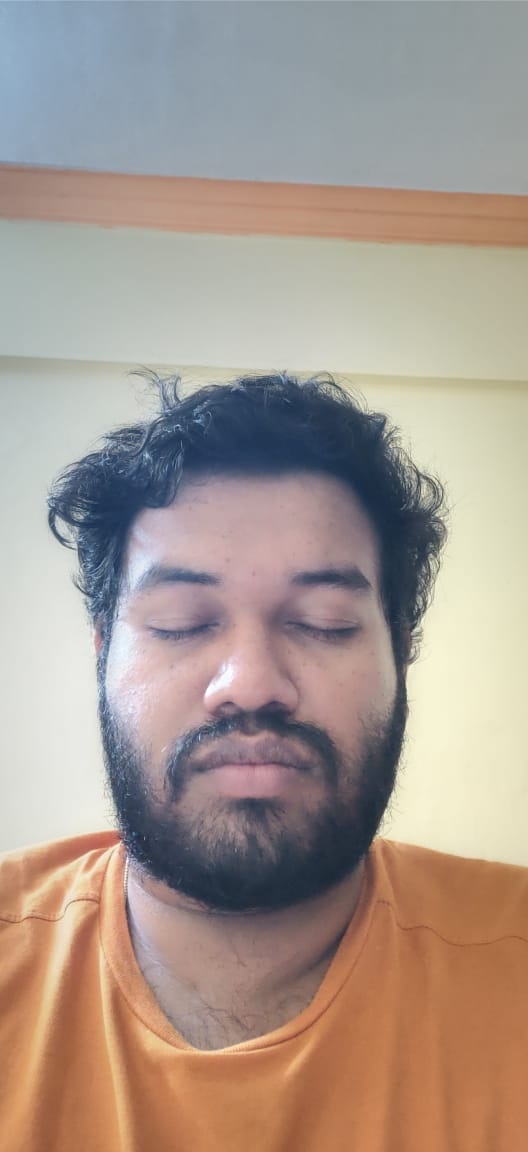Sleeping: (123, 590, 384, 653)
